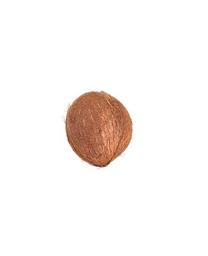coconut: (65, 92, 132, 168)
